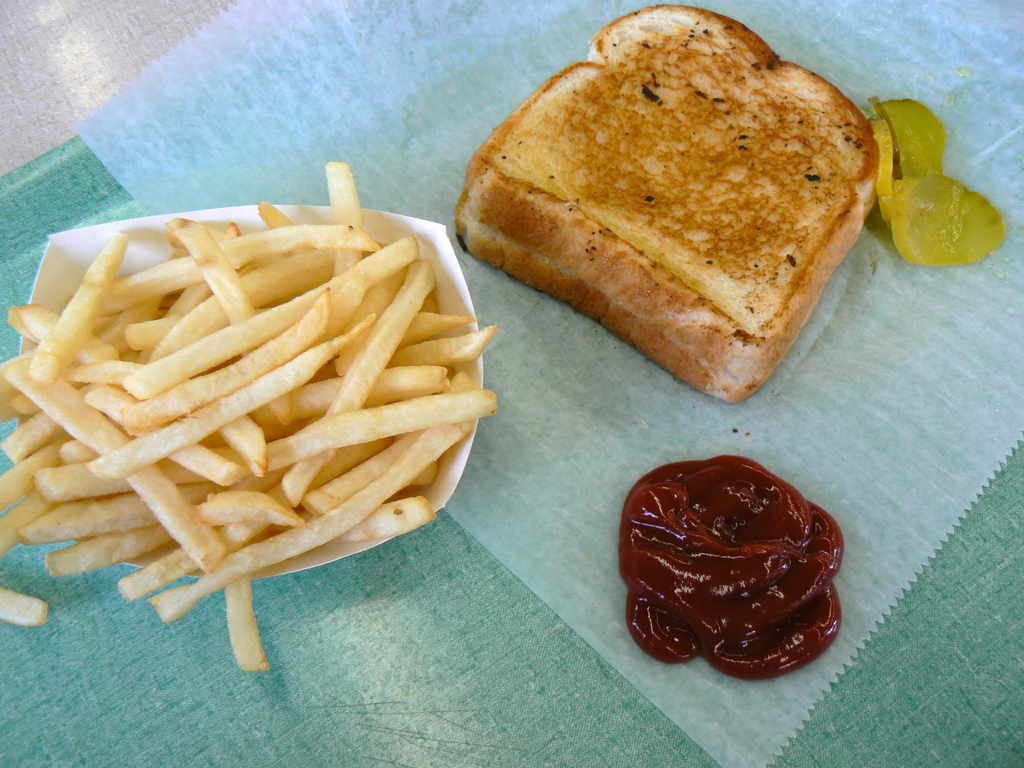French fries: (0, 152, 495, 678)
